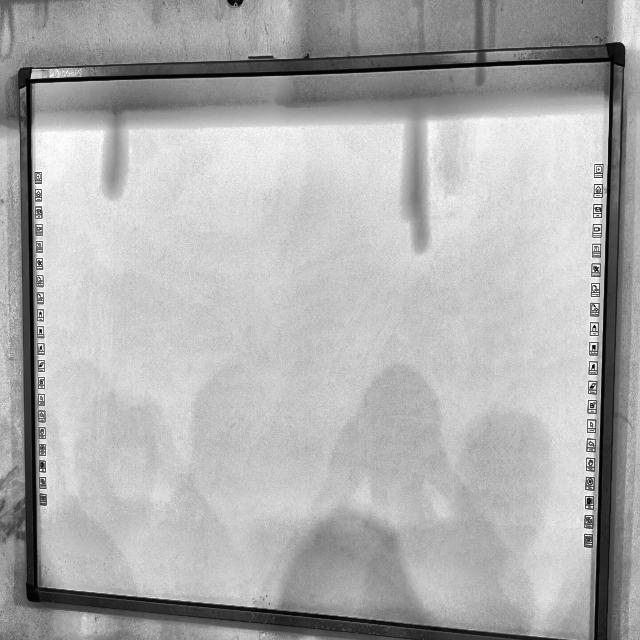screen: (19, 37, 625, 640)
